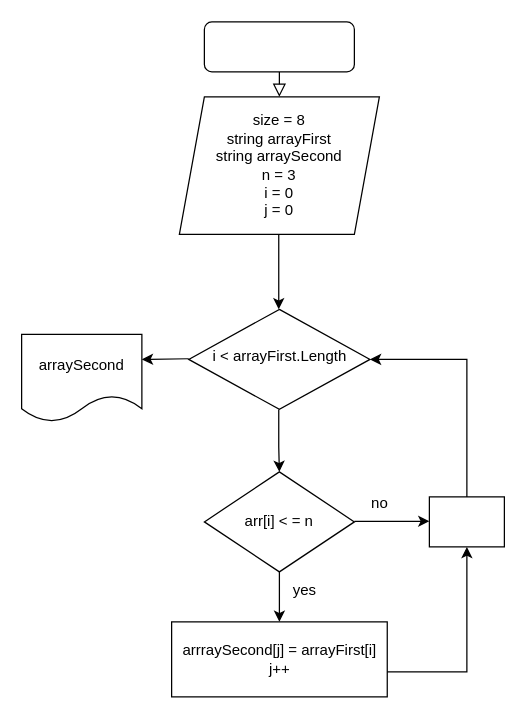
Image size: 528x719. Some labels were removed from this diagram. The shapes that lost their labels are listed below. From the top down, each one's centre as x and y in pixels, then its label:
point (278, 46): start
point (466, 521): i++
